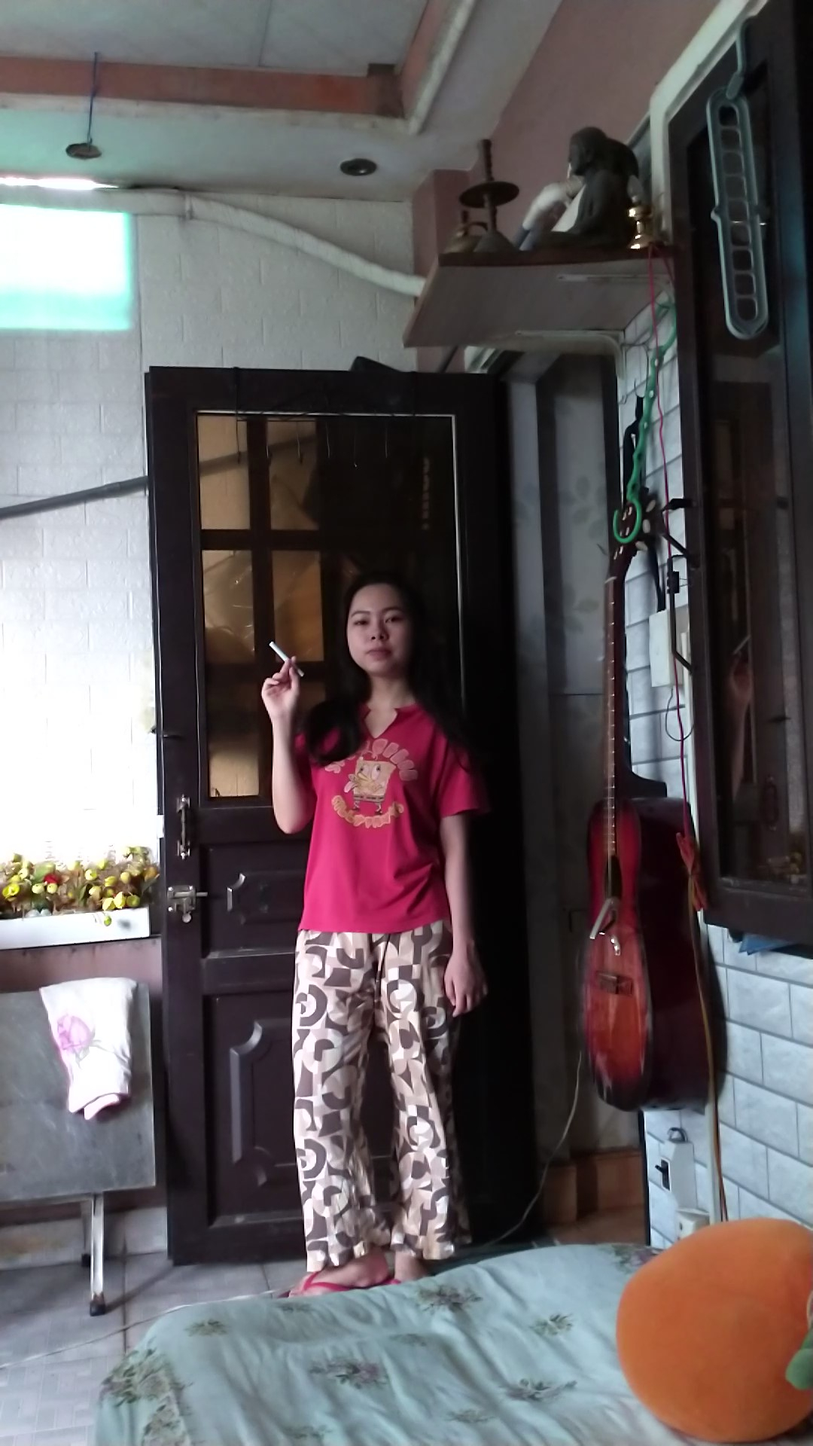cigarette: (266, 638, 288, 662)
person: (272, 518, 492, 1295)
